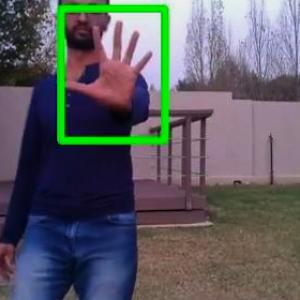follow_hand: (59, 14, 159, 110)
